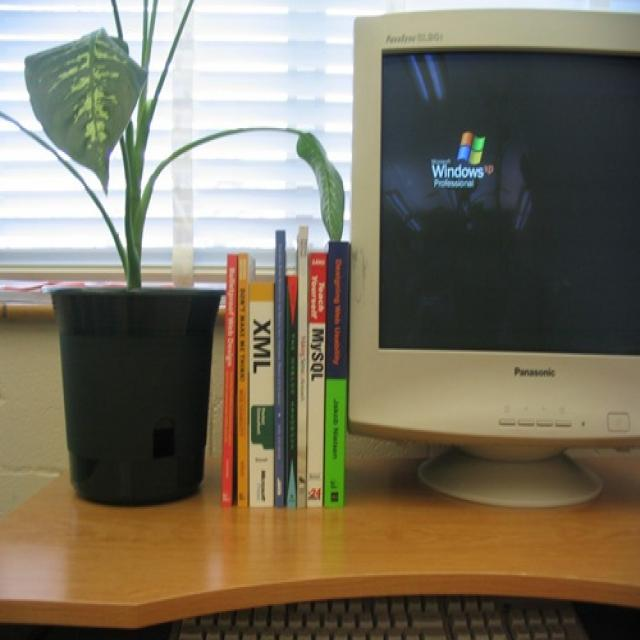pottedplant: (0, 0, 344, 507)
tvmonitor: (347, 7, 639, 507)
